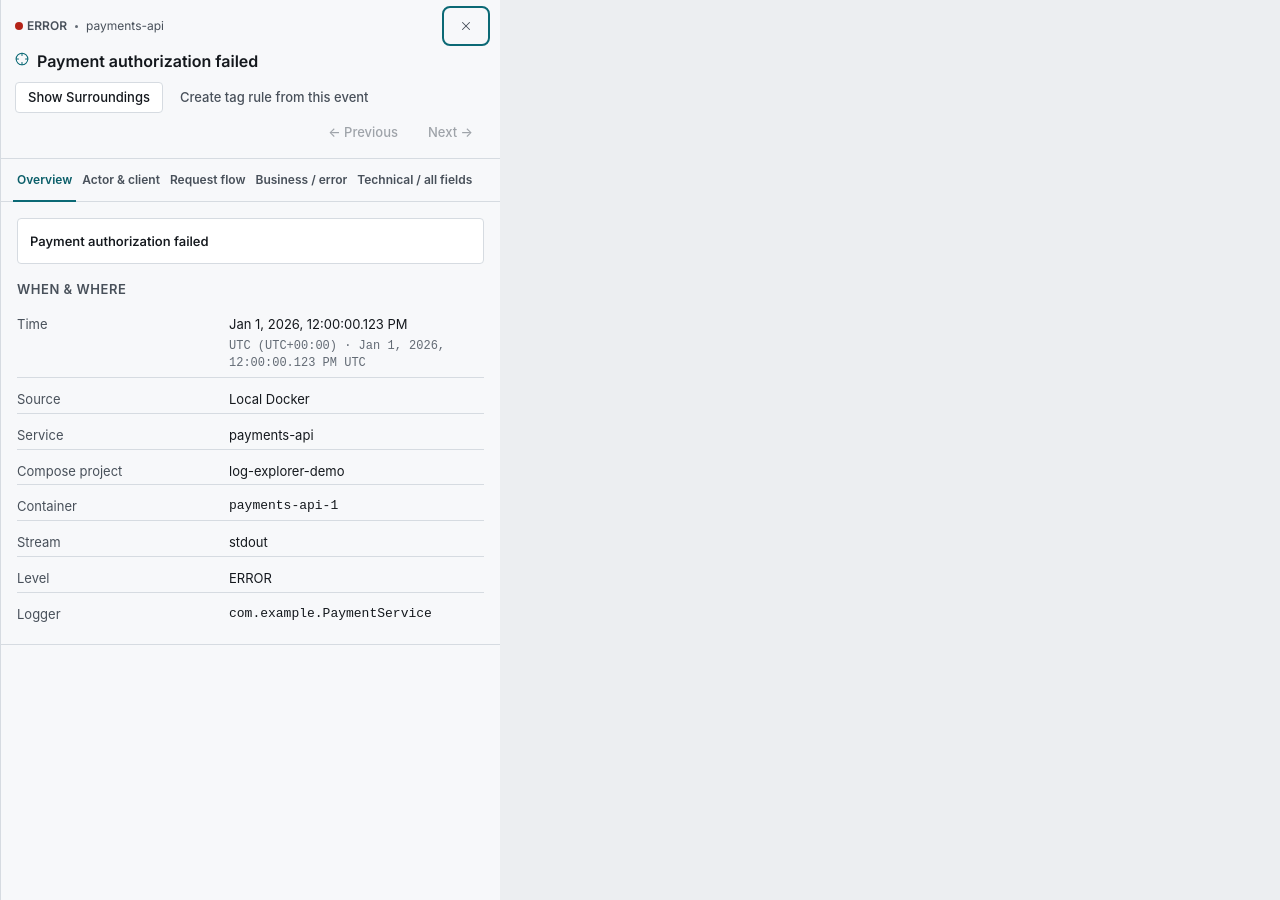
Test case: EventInspector › primary tabs are structurally fixed - always present regardless of event content (§A1-§A5) › an event missing only request-flow identifiers still shows the Request flow tab with an honest empty state
Click the tab "Request flow".
click(208, 181)  # box top-left (166, 159), bottom-right (250, 202)
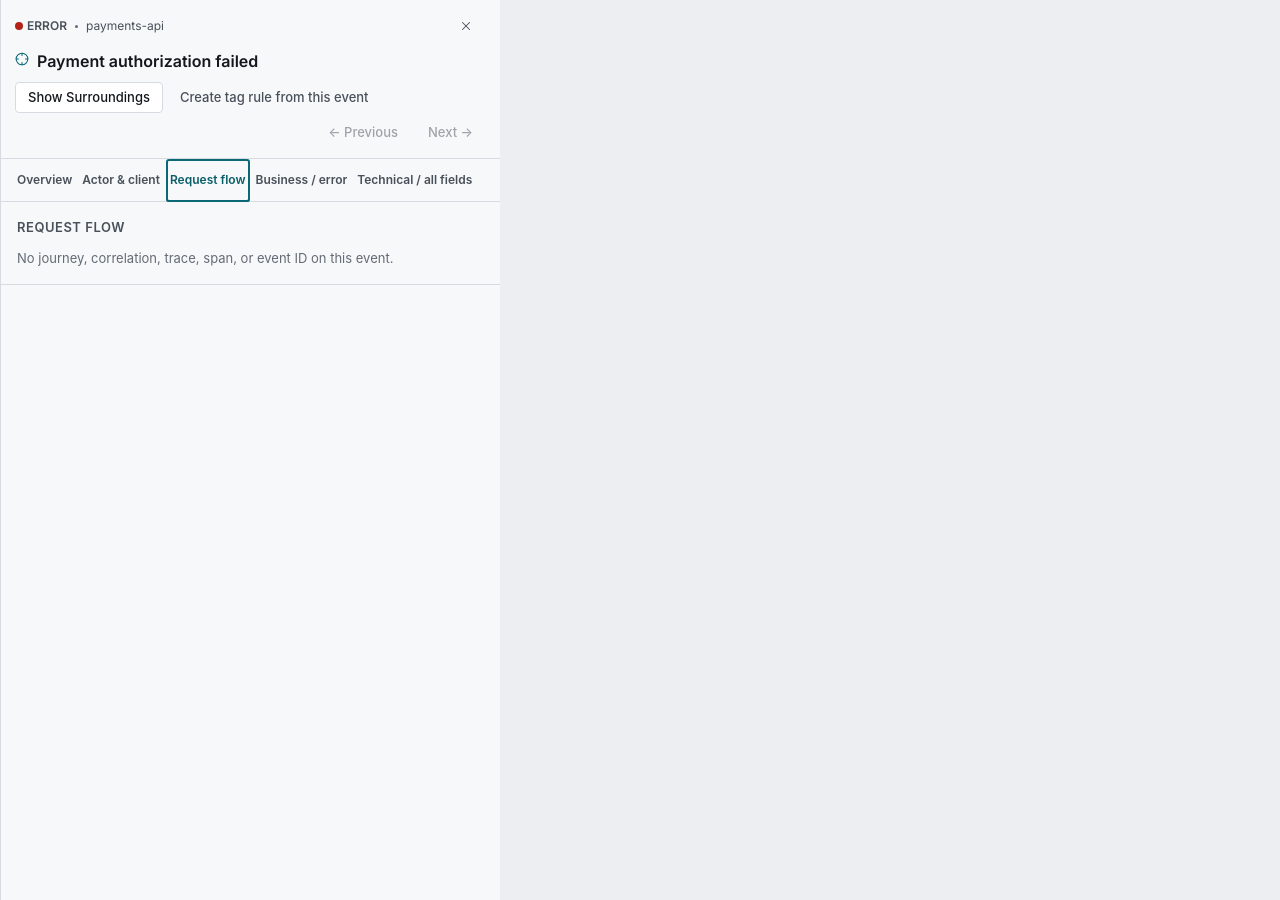
Now the text "No journey, correlation, trace, span, or event ID on this event" is shown, box top-left (17, 250), bottom-right (393, 266)
